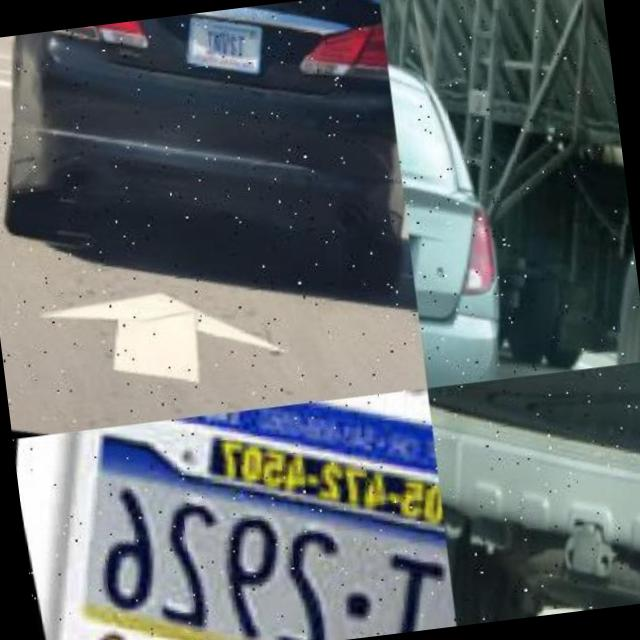LicensePlate: (45, 428, 456, 640), (140, 388, 444, 552), (568, 361, 640, 427), (182, 15, 258, 74), (406, 213, 453, 290)
